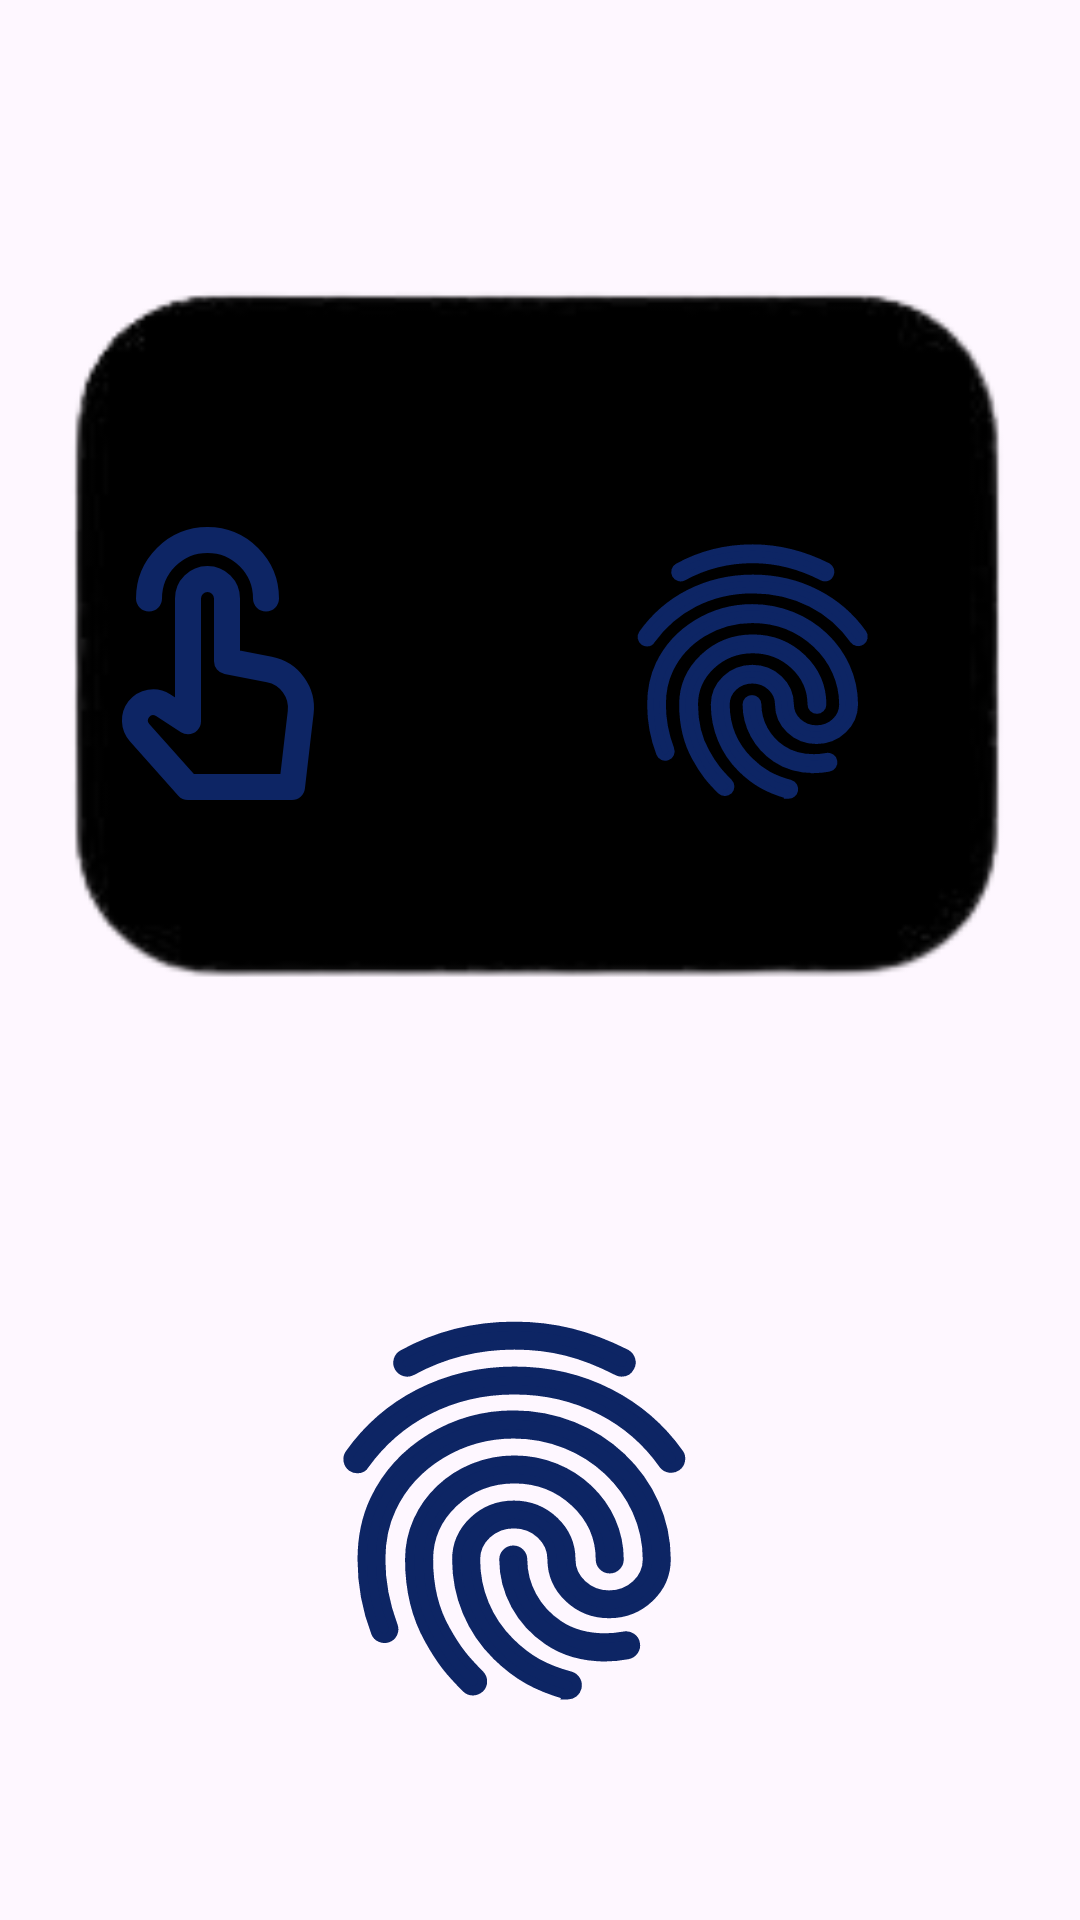

Where to tap for icons on this 1080 × 1920 app screen, as point (x, y):
finger click: point (218, 663)
